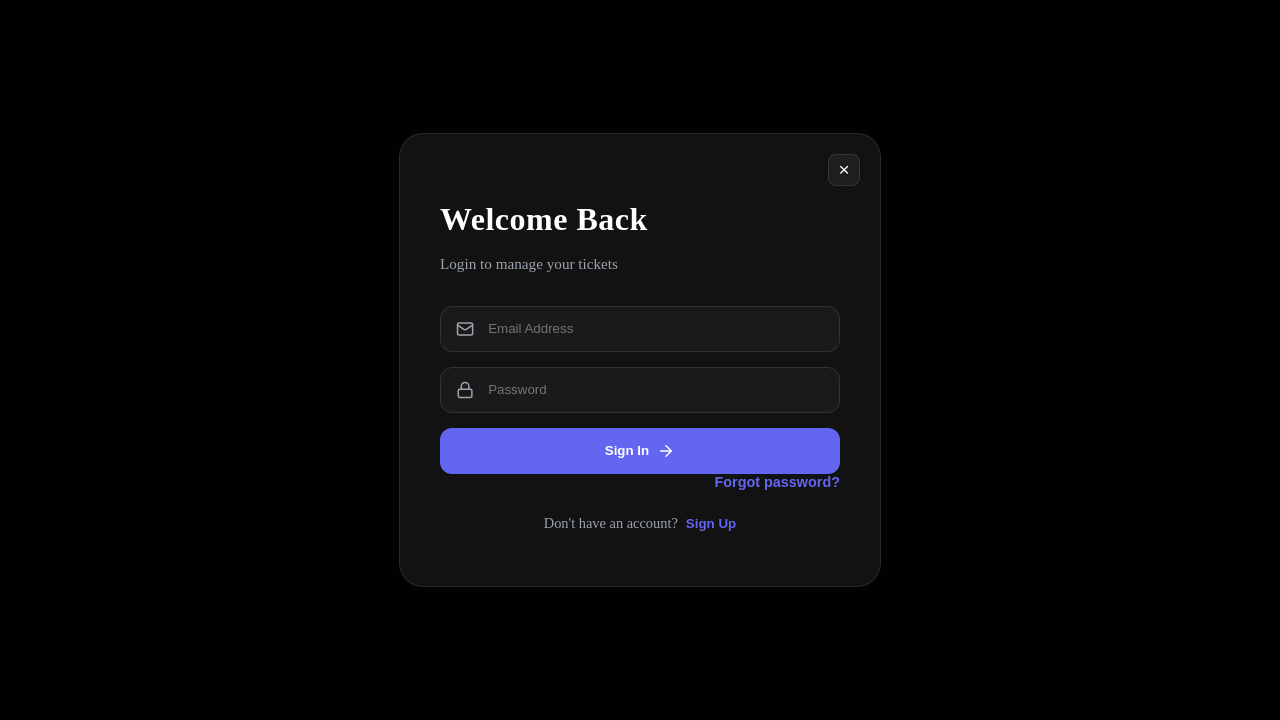
Test: Auth › shows the connection message when the request cannot reach the server
This screenshot has width=1280, height=720.
Type "user@example.com" into the field with placeholder "Email Address". click: (655, 329)
box: 486,320 -> 824,337
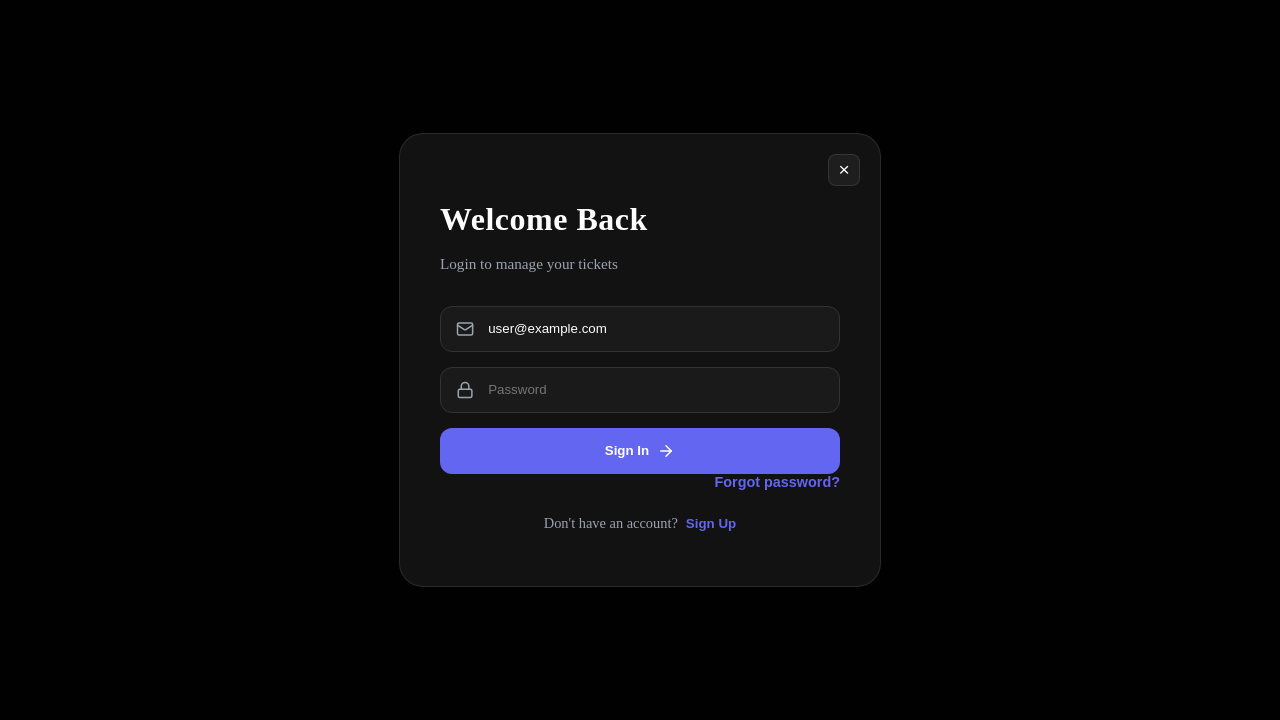
Type "valid-password" into the password field with placeholder "Password". click: (655, 390)
box: 486,381 -> 824,398
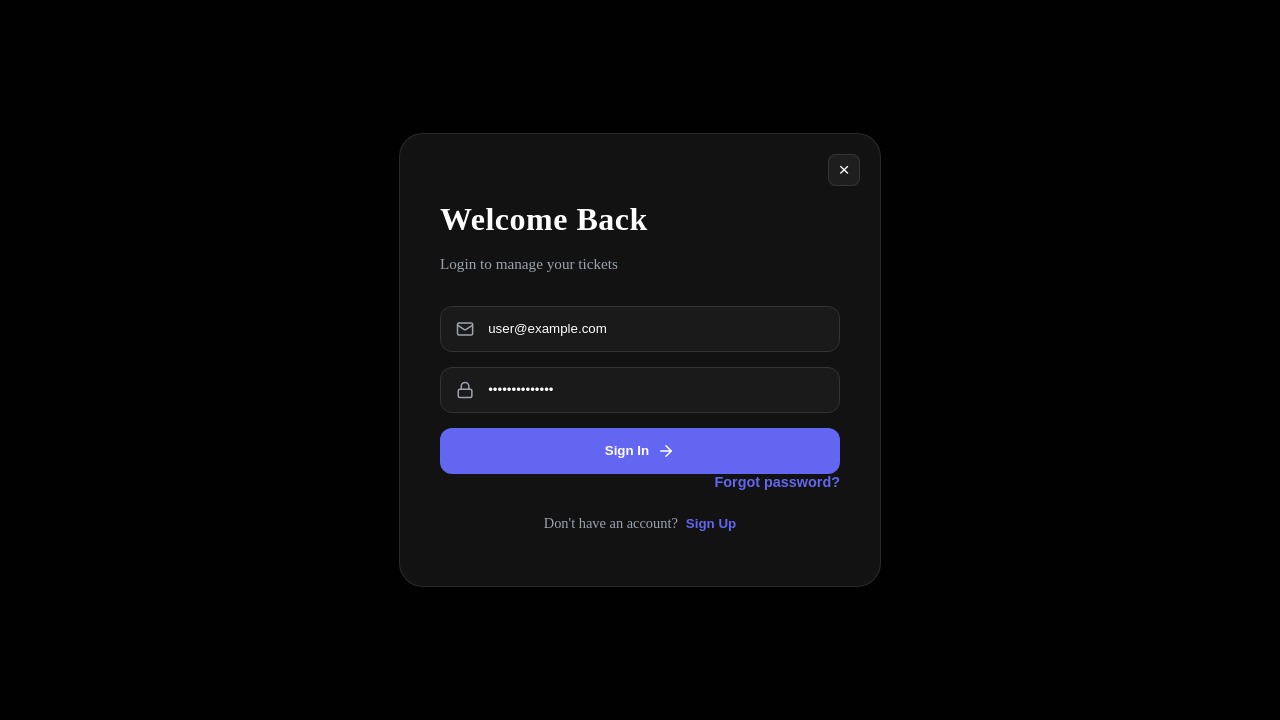
Click the button "Sign In". click: click(640, 451)
box: 440,428 -> 840,474
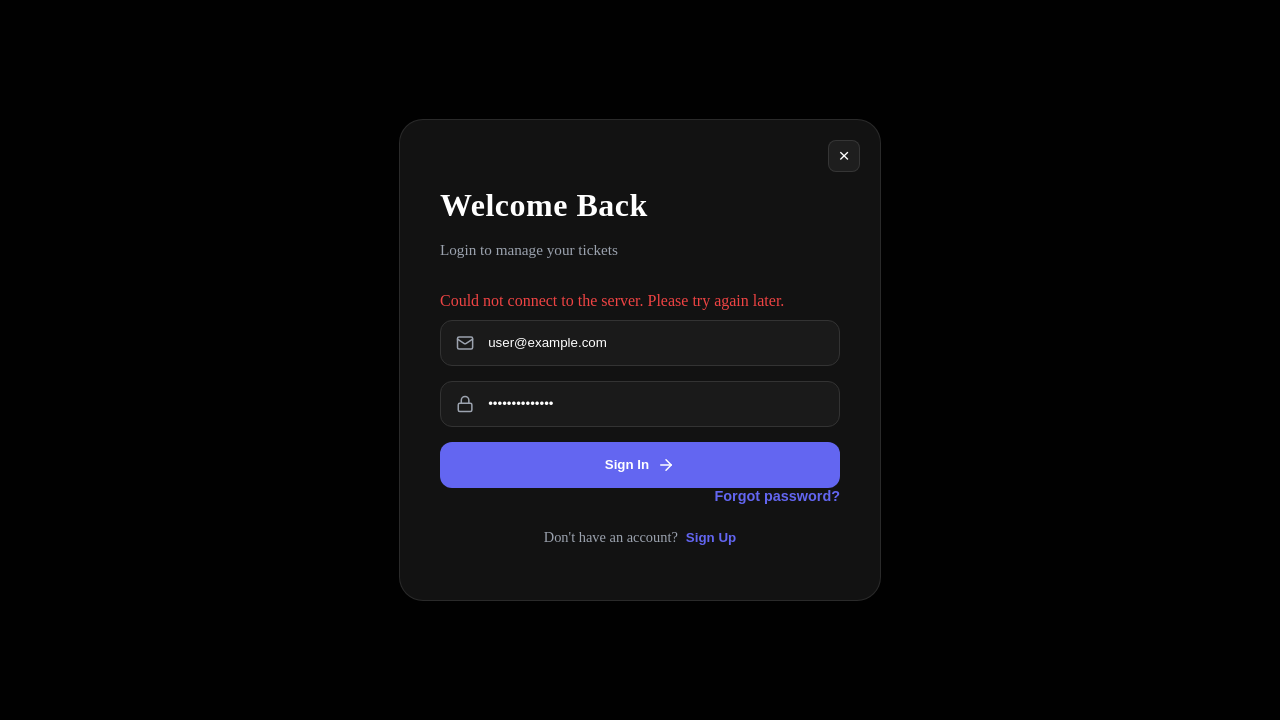
Expected: the text "Could not connect to the server. Please try again later." is shown, 440,292 -> 840,310
